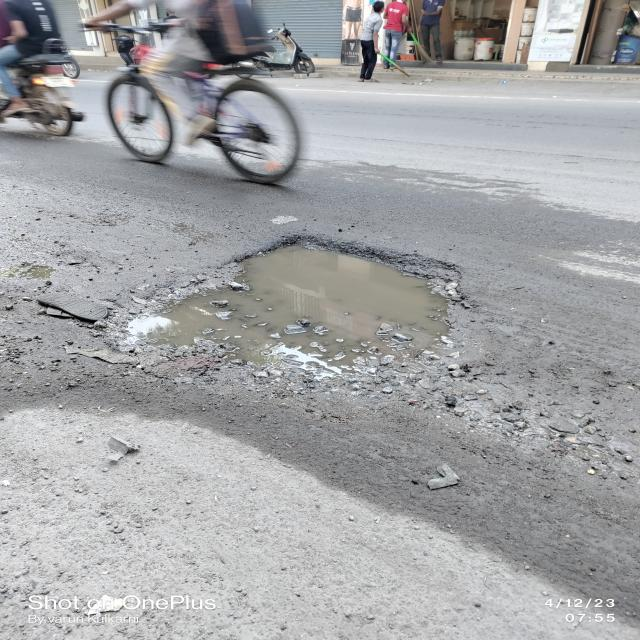potholes: (137, 229, 456, 364)
